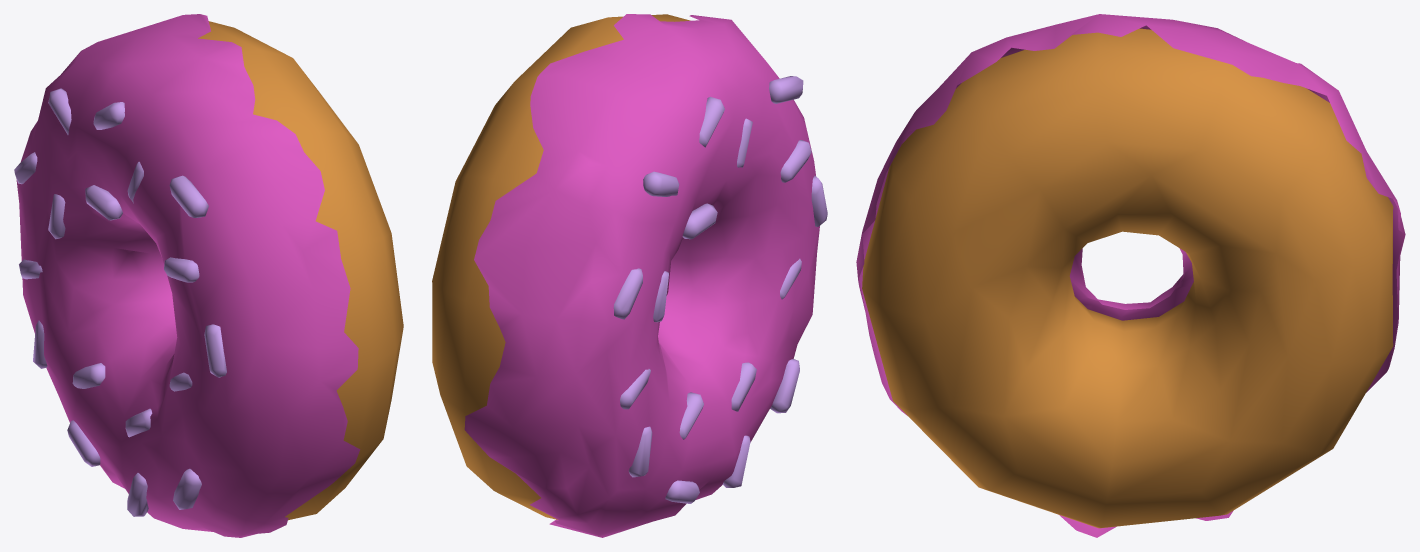
The model's file is obj_dona_wheels.fbx.
3 views of the same model, side by side, from view 1: azimuth 30°, elevation 25°; view 2: azimuth 150°, elevation 25°; view 3: azimuth 270°, elevation 25° (orthographic). The views are drawn at different scales.
Visible parts, largest first — view 1: obj_wheels_Dona_RL; view 2: obj_wheels_Dona_RL; view 3: obj_wheels_Dona_RL.
Part boxes in pixels (x1=…): obj_wheels_Dona_RL: x1=14, y1=14, x2=403, y2=537; obj_wheels_Dona_RL: x1=432, y1=14, x2=827, y2=537; obj_wheels_Dona_RL: x1=856, y1=14, x2=1405, y2=537.
Bounding box in the file's own units: 0.2957 × 0.6579 × 0.6579.
